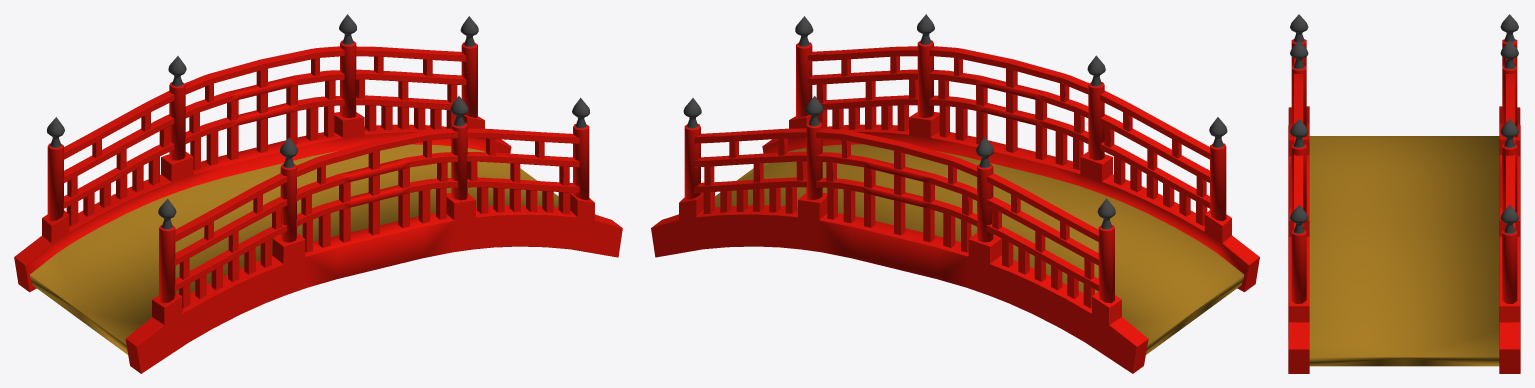
The model's file is OrientalBridgeLong.fbx.
3 views of the same model, side by side, from view 1: azimuth 30°, elevation 25°; view 2: azimuth 150°, elevation 25°; view 3: azimuth 270°, elevation 25° (orthographic). The views are drawn at different scales.
Visible parts, largest first — view 1: OrientalBridgeLong; view 2: OrientalBridgeLong; view 3: OrientalBridgeLong.
Part boxes in pixels (<box>): OrientalBridgeLong: <box>14,14,622,373</box>; OrientalBridgeLong: <box>651,14,1259,373</box>; OrientalBridgeLong: <box>1288,14,1520,373</box>.
Size of the model in its own units: 9.11 by 3.5 by 3.99.
